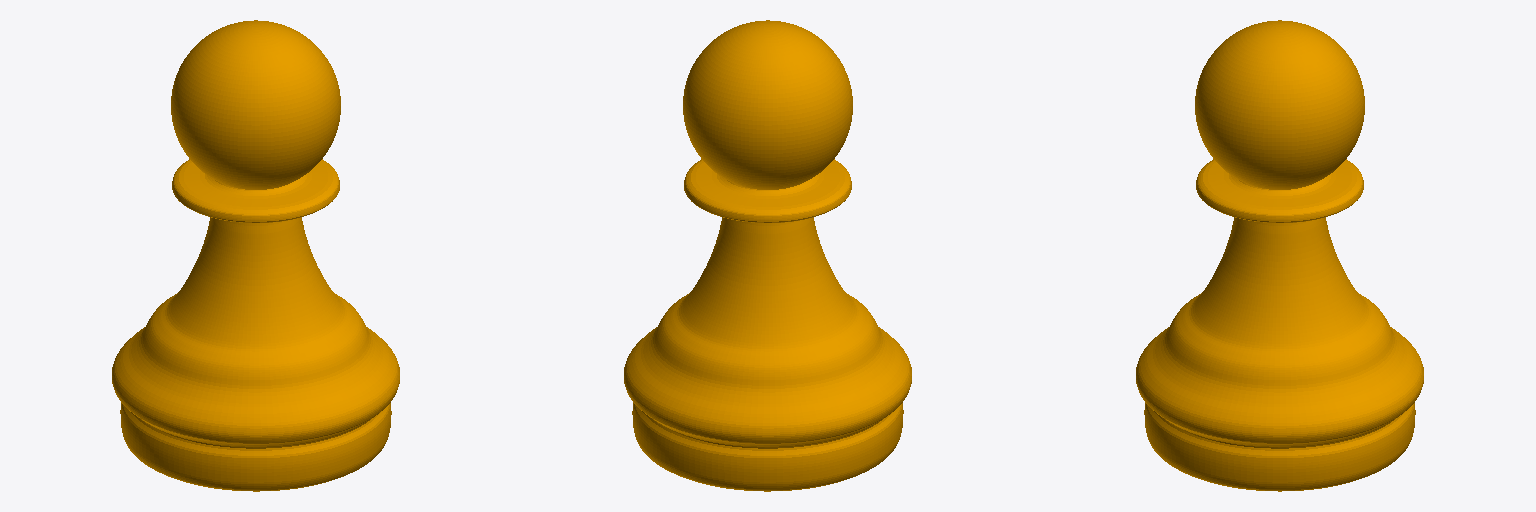
robot.urdf — pawn:
<?xml version='1.0' encoding='utf-8'?>
<robot name="pawn"><link name="pawn"><inertial><origin xyz="9.790179171953403e-20 -1.2275145510713712e-19 0.007917221687124297" rpy="0 0 0" /><mass value="0.003" /><inertia ixx="1.855400030268729e-07" iyy="1.855400030268729e-07" izz="1.0658000502556569e-07" ixy="0" ixz="0" iyz="0" /></inertial><visual><geometry><mesh filename="pawn.obj" /></geometry></visual><collision><geometry><mesh filename="collision/pawn_00.obj" /></geometry></collision><collision><geometry><mesh filename="collision/pawn_01.obj" /></geometry></collision><collision><geometry><mesh filename="collision/pawn_02.obj" /></geometry></collision><collision><geometry><mesh filename="collision/pawn_03.obj" /></geometry></collision><collision><geometry><mesh filename="collision/pawn_04.obj" /></geometry></collision><collision><geometry><mesh filename="collision/pawn_05.obj" /></geometry></collision><collision><geometry><mesh filename="collision/pawn_06.obj" /></geometry></collision><collision><geometry><mesh filename="collision/pawn_07.obj" /></geometry></collision><collision><geometry><mesh filename="collision/pawn_08.obj" /></geometry></collision><collision><geometry><mesh filename="collision/pawn_09.obj" /></geometry></collision><collision><geometry><mesh filename="collision/pawn_10.obj" /></geometry></collision><collision><geometry><mesh filename="collision/pawn_11.obj" /></geometry></collision><collision><geometry><mesh filename="collision/pawn_12.obj" /></geometry></collision><collision><geometry><mesh filename="collision/pawn_13.obj" /></geometry></collision><collision><geometry><mesh filename="collision/pawn_14.obj" /></geometry></collision><collision><geometry><mesh filename="collision/pawn_15.obj" /></geometry></collision><collision><geometry><mesh filename="collision/pawn_16.obj" /></geometry></collision><collision><geometry><mesh filename="collision/pawn_17.obj" /></geometry></collision></link></robot>

--- Facts derived from the render (not from the file) ---
The picture shows the robot from 3 angles, left to right: view 1: azimuth 30°, elevation 25°; view 2: azimuth 150°, elevation 25°; view 3: azimuth 270°, elevation 25°; orthographic projection.
Model pawn with 1 links and 0 joints (none), rooted at pawn, posed all joints at 0.
Visible links, largest first — view 1: pawn; view 2: pawn; view 3: pawn.
Boxes of the visible links, <box> form: pawn: <box>112,20,399,491</box>; pawn: <box>624,20,911,491</box>; pawn: <box>1136,20,1423,491</box>.
Size in the robot's own frame: 0.0146 by 0.0146 by 0.023 metres.
1 mesh visuals loaded from 1 distinct referenced files (1 OBJ).
